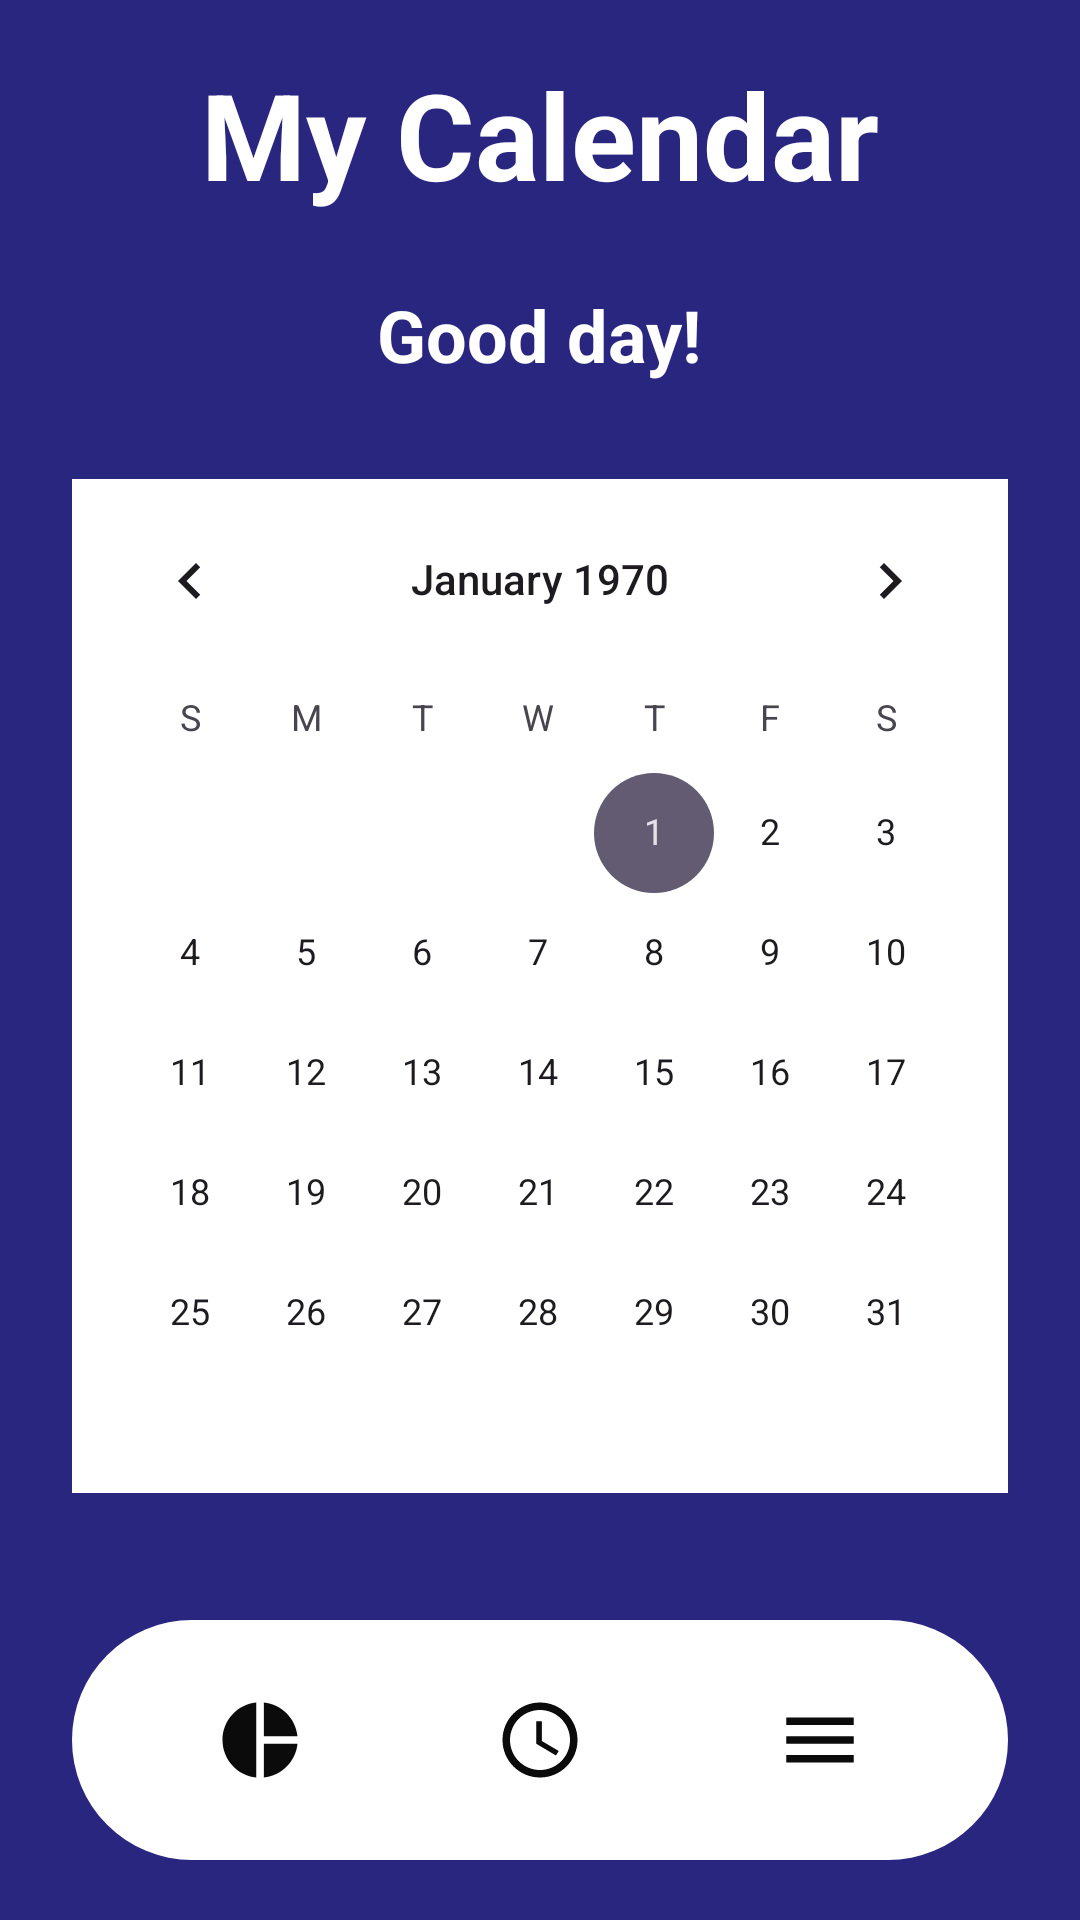

Locate icon controls on the screen. Image size 1080×1920, boxes as region(x1, y1, x2, y2).
All my alarms clock: region(502, 1702, 578, 1778)
Menu: region(786, 1717, 854, 1763)
